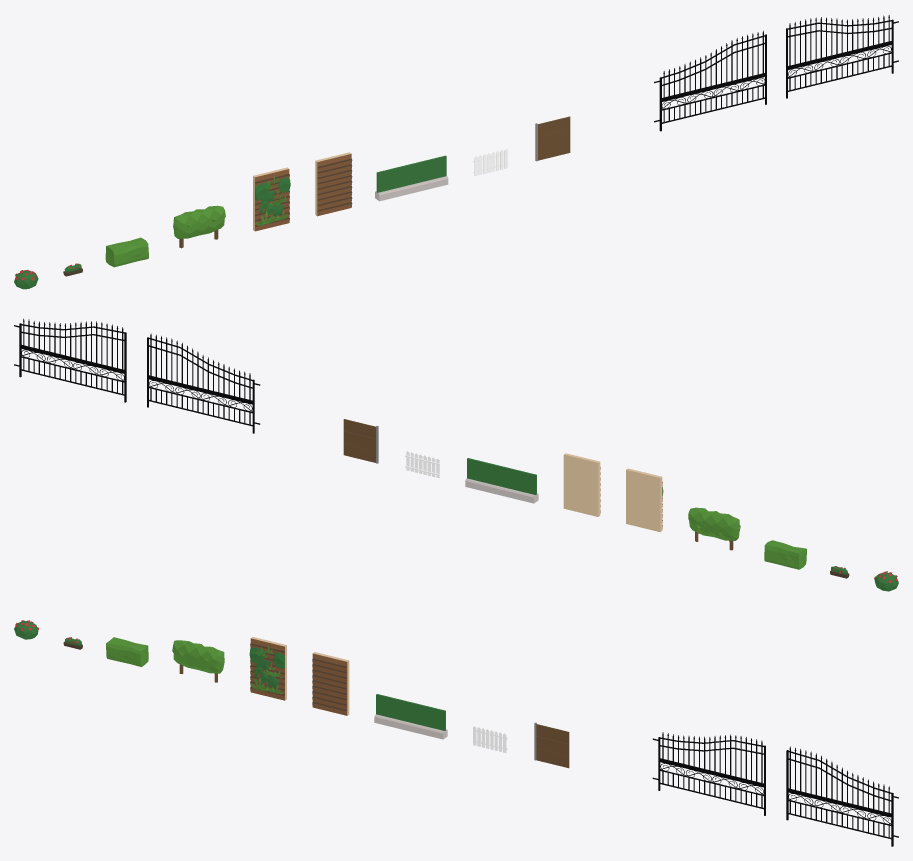
File: fences.glb
3 renders of one model, top to bottom at view 1: azimuth 30°, elevation 25°; view 2: azimuth 150°, elevation 25°; view 3: azimuth 330°, elevation 25°, orthographic.
Parts seen in each view (by area): view 1: gate-left, gate-right, fence-stone-metal, house-wall-wood-green-2x3m.001, house-wall-wood-2x3m, fence-vineyard, fence-big, fence-shrub, fence-picket; view 2: gate-right, gate-left, fence-stone-metal, house-wall-wood-2x3m, house-wall-wood-green-2x3m.001, fence-vineyard, fence-big, fence-shrub, fence-picket; view 3: gate-right, gate-left, house-wall-wood-2x3m, fence-stone-metal, house-wall-wood-green-2x3m.001, fence-vineyard, fence-big, fence-shrub, fence-picket.
Part boxes in pixels (x1,y1,x2,y2): gate-left: (654, 30, 766, 131); gate-right: (786, 15, 898, 98); fence-stone-metal: (375, 155, 448, 201); house-wall-wood-green-2x3m.001: (253, 167, 290, 231); house-wall-wood-2x3m: (315, 152, 352, 216); fence-vineyard: (173, 205, 225, 248); fence-big: (535, 116, 570, 161); fence-shrub: (105, 237, 148, 267); fence-picket: (473, 149, 508, 176); gate-right: (14, 318, 126, 402); gate-left: (147, 333, 260, 433); fence-stone-metal: (465, 458, 538, 503); house-wall-wood-2x3m: (563, 453, 600, 516); house-wall-wood-green-2x3m.001: (626, 468, 663, 532); fence-vineyard: (688, 507, 740, 550); fence-big: (343, 419, 378, 463); fence-shrub: (764, 540, 806, 569); fence-picket: (405, 451, 439, 478); gate-right: (786, 746, 898, 846); gate-left: (652, 732, 765, 815); house-wall-wood-2x3m: (312, 652, 349, 715); fence-stone-metal: (374, 694, 447, 739); house-wall-wood-green-2x3m.001: (249, 637, 286, 700); fence-vineyard: (172, 640, 224, 682); fence-big: (534, 722, 569, 768); fence-shrub: (106, 637, 148, 666); fence-picket: (473, 726, 507, 752).
Size of the model in its own units: 51.24 by 4.3 by 1.19.
1 material, 1 textured.
